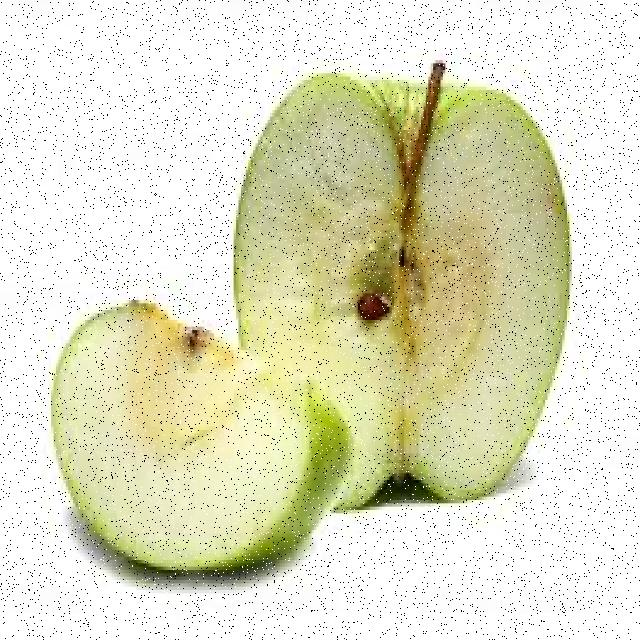Apple: (247, 66, 571, 509), (46, 301, 356, 574)
